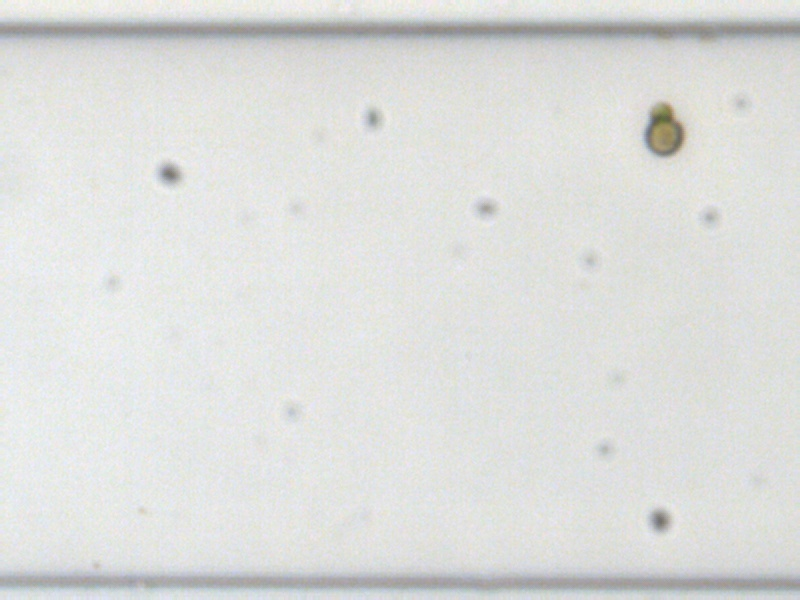Chlorella: (645, 100, 674, 127)
Effrenium: (645, 121, 679, 154)
